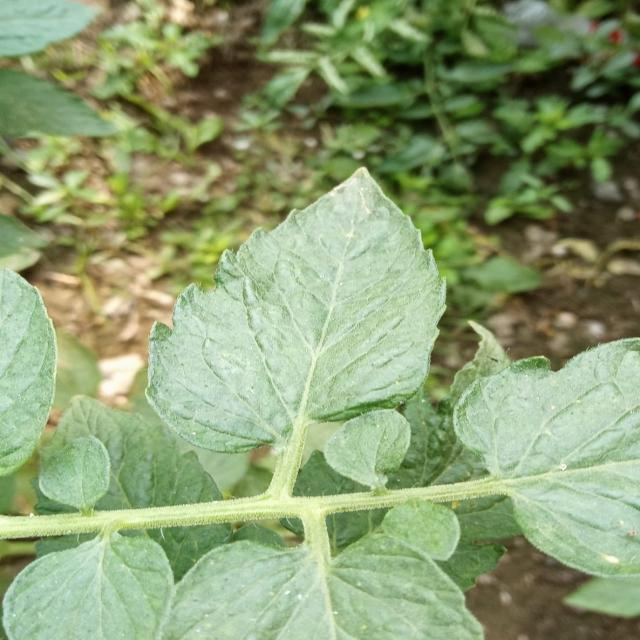Healthy: (102, 159, 489, 513), (165, 503, 481, 640)
